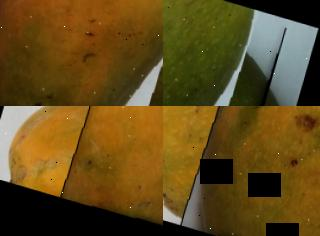PartiallyRipe: (163, 106, 320, 236), (29, 106, 163, 236), (0, 0, 163, 106)
Unripe: (163, 0, 291, 106)
